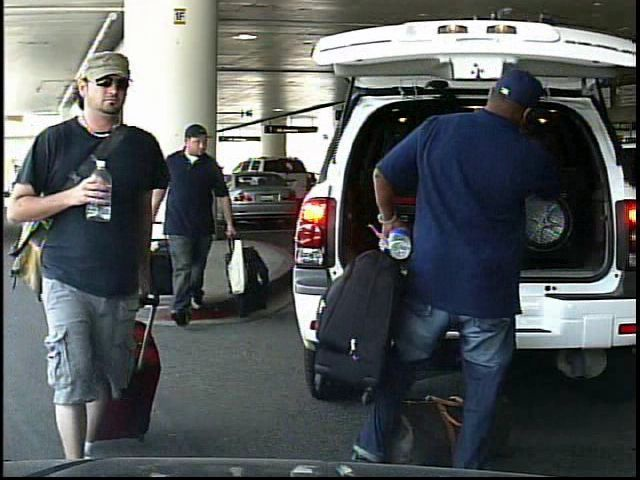person: (345, 60, 563, 469), (15, 53, 185, 479), (166, 116, 243, 323)
